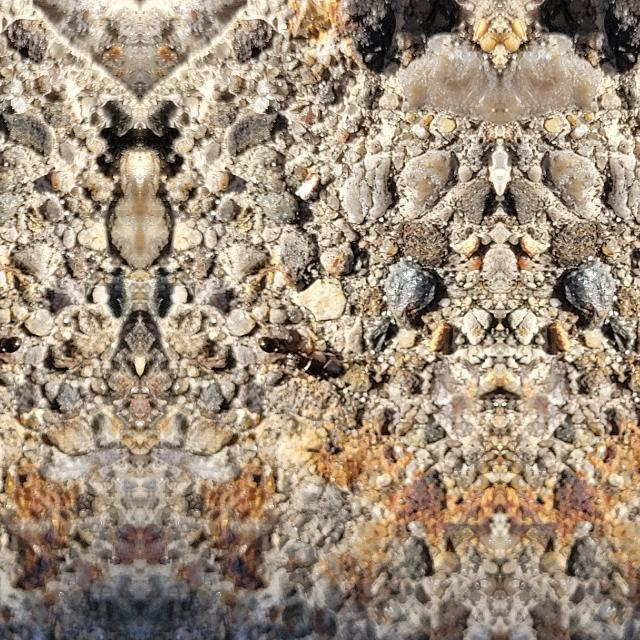Tetramorium: (252, 308, 342, 388), (0, 308, 28, 387)
